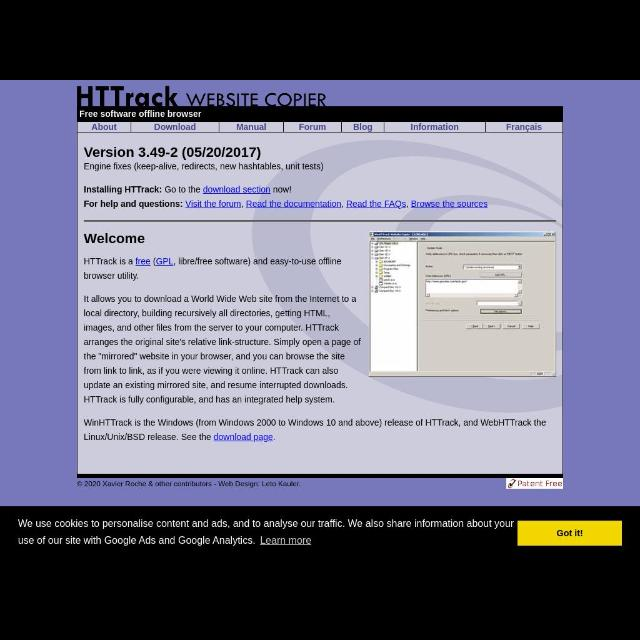image: (370, 231, 556, 377)
link: (247, 200, 343, 208), (412, 199, 488, 209), (346, 199, 406, 209), (203, 186, 271, 194), (214, 434, 274, 442), (186, 200, 240, 208), (134, 256, 152, 266), (156, 256, 172, 266)
multitab: (78, 122, 562, 132)
text: (84, 294, 362, 402), (18, 518, 514, 546), (84, 420, 546, 442), (84, 146, 323, 172), (84, 256, 340, 280), (77, 84, 327, 106), (84, 200, 488, 208), (82, 186, 294, 194), (76, 482, 300, 488), (79, 110, 201, 118), (84, 234, 146, 246), (409, 122, 458, 132), (507, 124, 543, 134), (518, 480, 562, 488), (154, 123, 196, 131), (238, 122, 266, 132), (556, 529, 584, 539), (92, 122, 118, 132), (300, 124, 326, 132), (353, 124, 372, 132)
textbutton: (518, 520, 622, 546)
